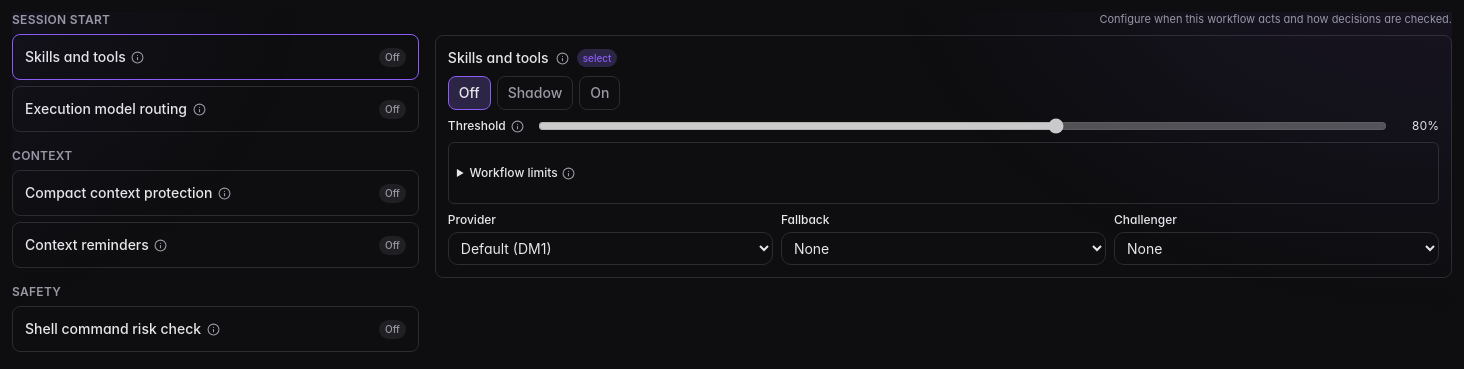
Test: falls back to the first current registry entry when the selection is removed
Click the button "Execution model routing Off" at (106, 108), box x1=12 y1=86 x2=419 y2=132
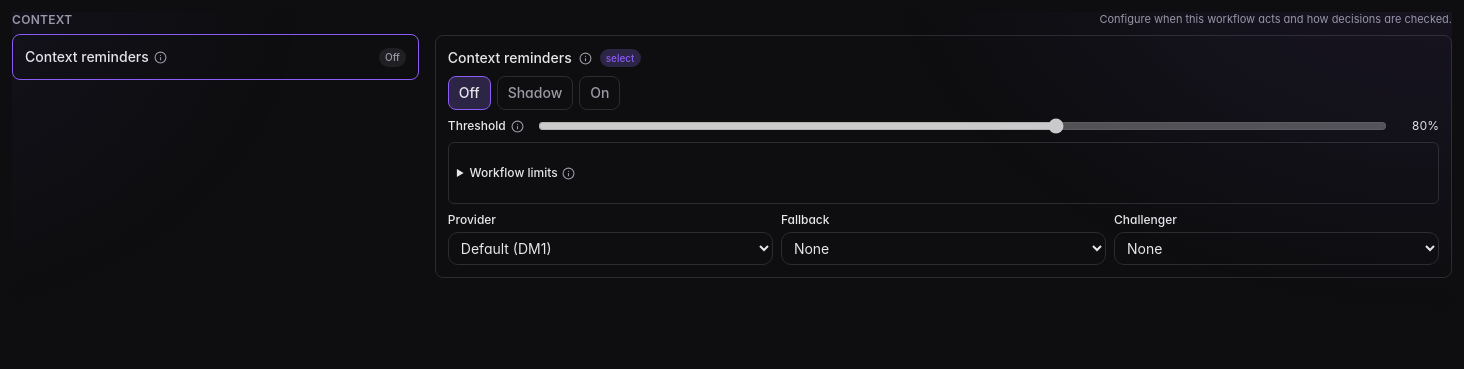
Now the element with test id "decider-authority-context-reminder" is shown, box x1=435 y1=35 x2=1452 y2=278
